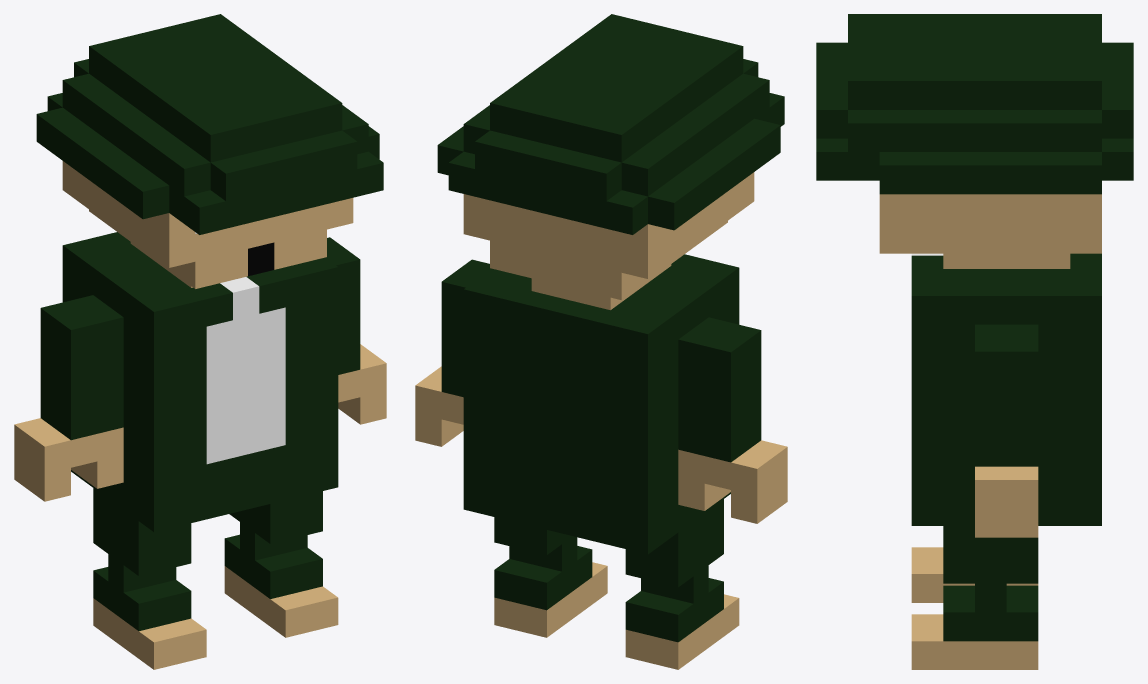
File: lvl1-1.obj
3 views of the same model, side by side, from view 1: azimuth 30°, elevation 25°; view 2: azimuth 150°, elevation 25°; view 3: azimuth 270°, elevation 25° (orthographic). The views are drawn at different scales.
Size of the model in its own units: 1.3 by 2 by 1.
1 material, 1 textured.
